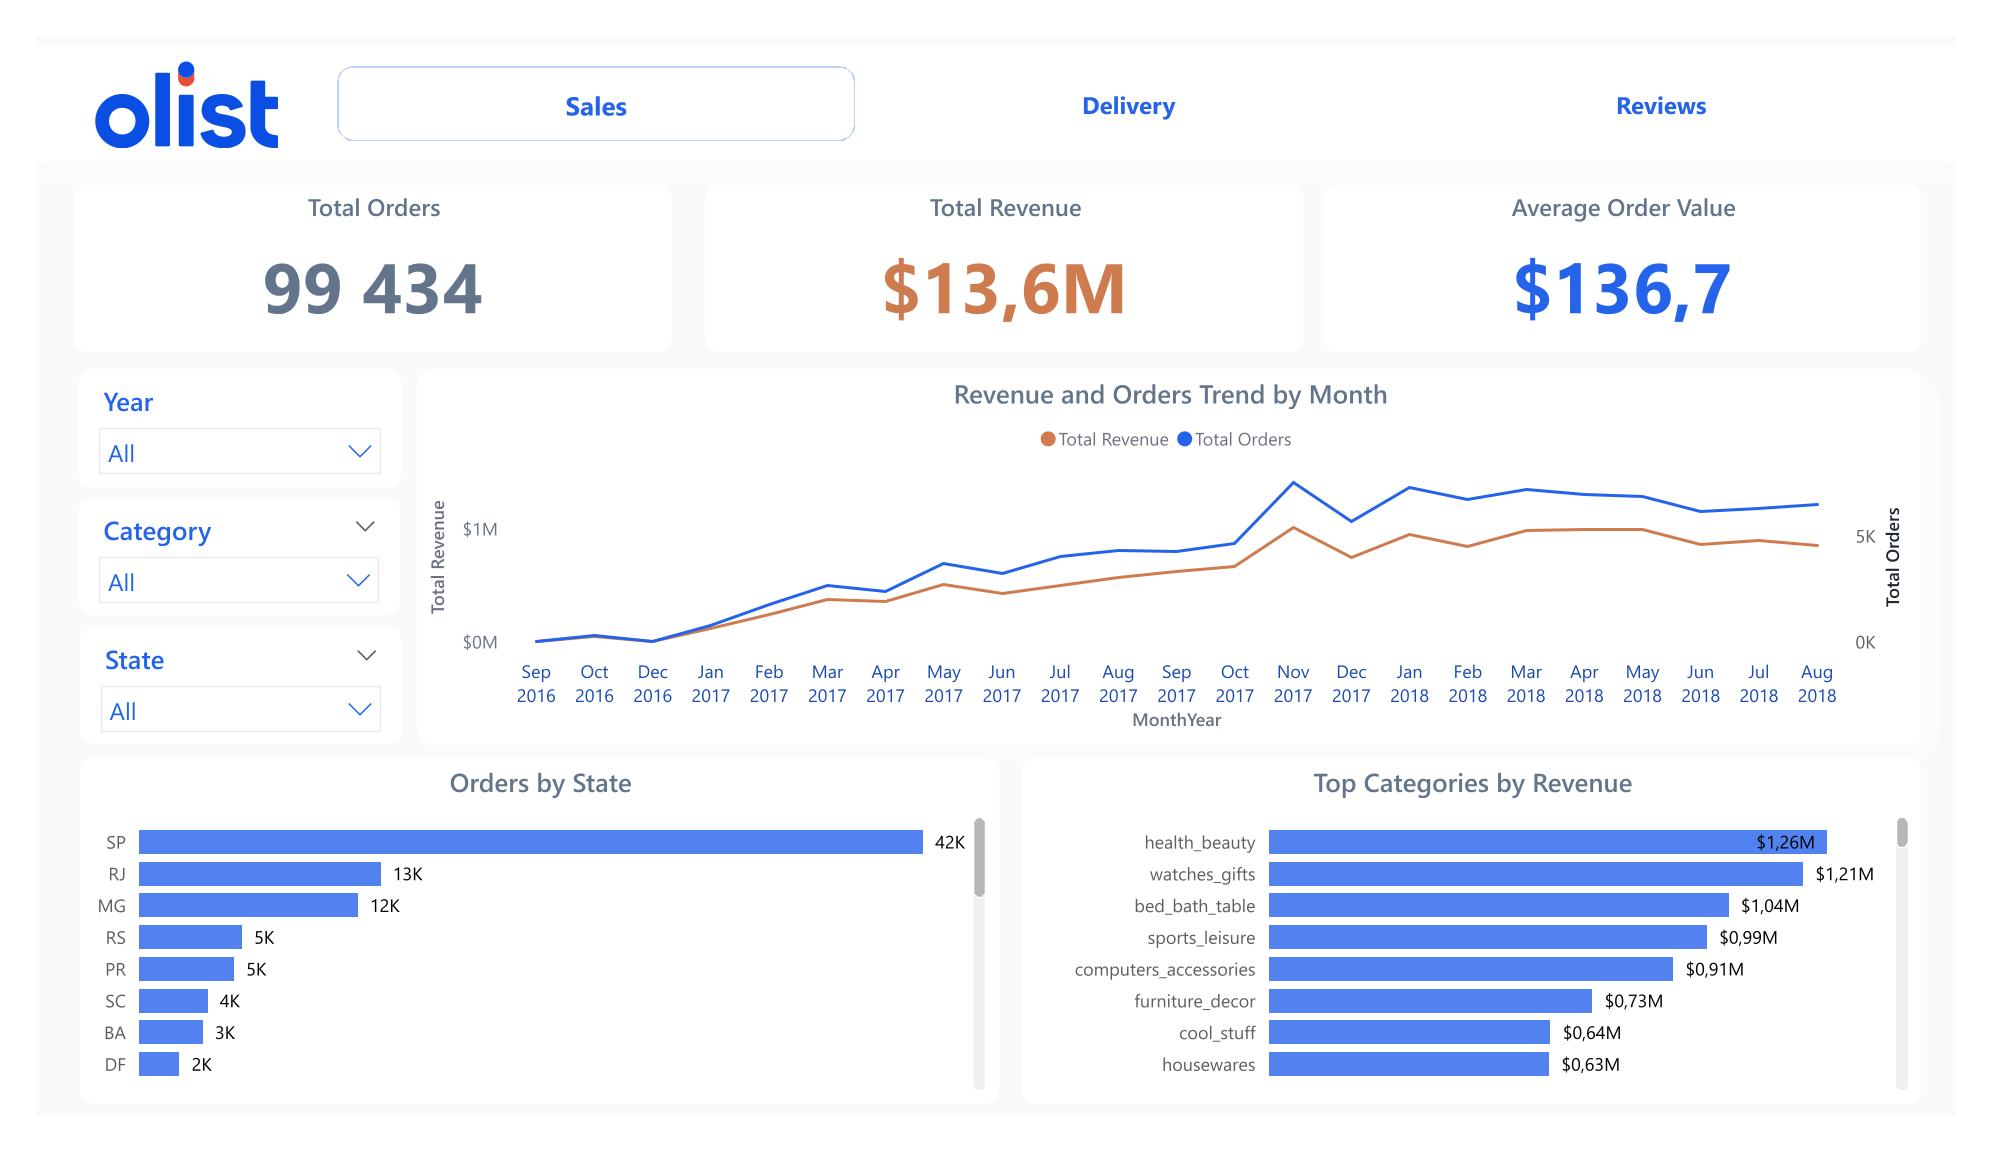

The page's visual inventory and layout, read from the dashboard file:
{"tool":"powerbi","page":{"name":"Sales","canvas":[1280,720],"ordinal":0},"visuals":[{"type":"shape","box":[0,5.6,1280,78.9],"z":0,"group":"g1"},{"type":"card","title":"Total Orders","fields":{"Values":["_measures.Total Orders"]},"box":[25,99,399,112],"z":1000},{"type":"card","title":"Total Revenue","fields":{"Values":["_measures.Total Revenue"]},"box":[446.4,99.1,399,112],"z":2000},{"type":"pageNavigator","box":[201.1,20,1055.6,50],"z":3000,"group":"g1"},{"type":"card","title":"Average Order Value","fields":{"Values":["_measures.AOV"]},"box":[858,98.6,398.7,112.3],"z":4000},{"type":"lineChart","title":"Revenue and Orders Trend by Month","fields":{"Category":["d_date.MonthYear"],"Y":["_measures.Total Revenue"],"Y2":["_measures.Total Orders"]},"box":[253.8,221.5,1003,250.5],"z":5000},{"type":"slicer","fields":{"Values":["d_date.Year"]},"box":[27.8,221.5,216,79],"z":6000},{"type":"slicer","fields":{"Values":["d_customers.customer_state"]},"box":[28.9,394.1,214.8,77.9],"z":7000},{"type":"slicer","fields":{"Values":["d_category_translation.category_english"]},"box":[27.8,308.4,214.8,77.9],"z":8000},{"type":"barChart","title":"Orders by State","fields":{"Category":["d_customers.customer_state"],"Y":["_measures.Total Orders"]},"box":[28.9,480.9,613.4,231.5],"z":9000},{"type":"barChart","title":"Top Categories by Revenue","fields":{"Category":["d_category_translation.category_english"],"Y":["_measures.Total Revenue"]},"box":[656.8,480.9,600,231.5],"z":10000},{"type":"actionButton","box":[12.6,10.5,175.2,69.2],"z":11000,"group":"g1"},{"type":"group","id":"g1","title":"Group 1","box":[0,5.6,1280,78.9],"z":11001}]}

Visuals, with their boxes in screenshot pixels (x1, y1, x2, y2), scaled from the page's 1280x720 canvas onto the 1992x1152 screenshot:
shape: left=0, top=9, right=1991, bottom=135
"Total Orders" card: left=39, top=158, right=660, bottom=338
"Total Revenue" card: left=695, top=159, right=1316, bottom=338
pageNavigator: left=313, top=32, right=1956, bottom=112
"Average Order Value" card: left=1335, top=158, right=1956, bottom=337
"Revenue and Orders Trend by Month" lineChart: left=395, top=354, right=1956, bottom=755
slicer - d_date.Year: left=43, top=354, right=379, bottom=481
slicer - d_customers.customer_state: left=45, top=631, right=379, bottom=755
slicer - d_category_translation.category_english: left=43, top=493, right=378, bottom=618
"Orders by State" barChart: left=45, top=769, right=1000, bottom=1140
"Top Categories by Revenue" barChart: left=1022, top=769, right=1956, bottom=1140
actionButton: left=20, top=17, right=292, bottom=128
"Group 1" group: left=0, top=9, right=1991, bottom=135
